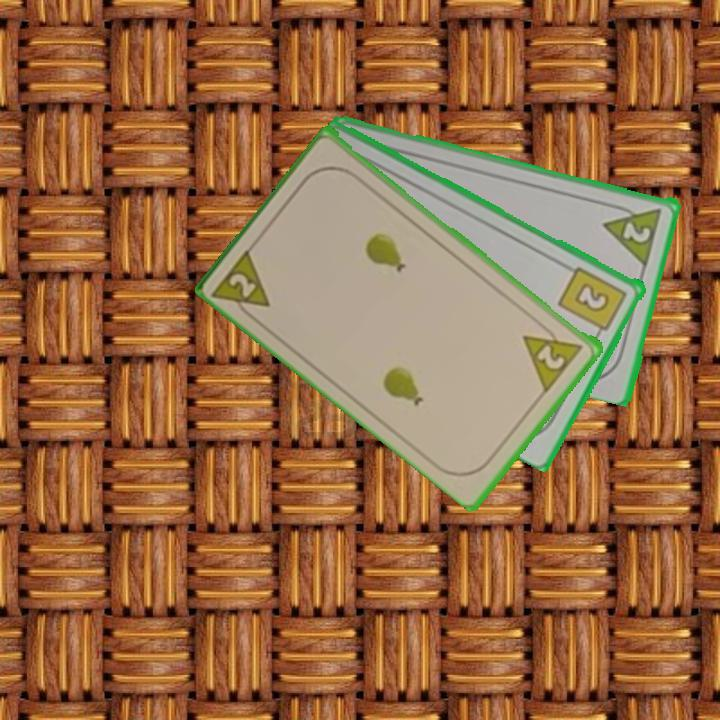2b: (555, 262, 630, 341)
2p: (210, 243, 275, 326), (520, 318, 586, 394), (619, 218, 654, 246)
